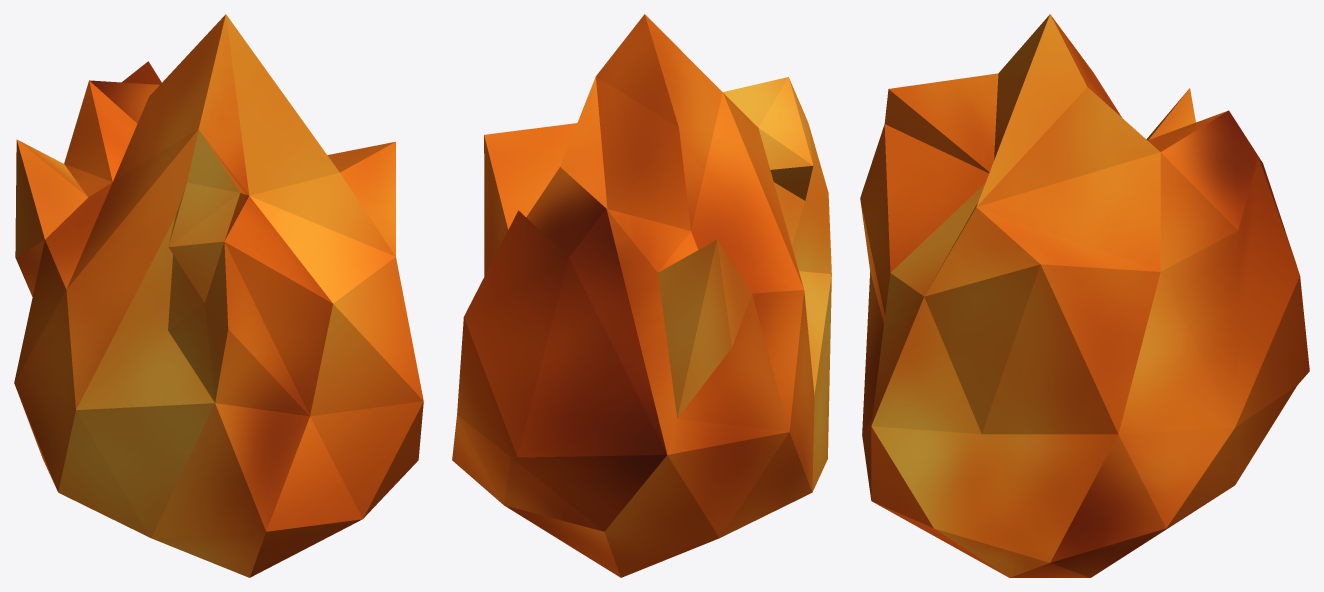
The model's file is FireHead1.fbx.
3 views of the same model, side by side, from view 1: azimuth 30°, elevation 25°; view 2: azimuth 150°, elevation 25°; view 3: azimuth 270°, elevation 25° (orthographic). The views are drawn at different scales.
Visible parts, largest first — view 1: Icosphere; view 2: Icosphere; view 3: Icosphere.
Boxes of the visible parts, x1,y1,x2,y2 form: Icosphere: (14, 14, 423, 577); Icosphere: (452, 14, 831, 577); Icosphere: (860, 14, 1309, 577).
Bounding box in the file's own units: 183 × 278 × 203.
